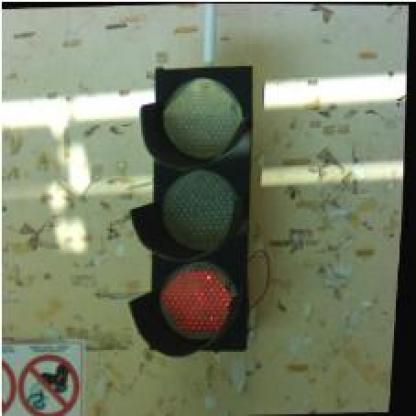red: (126, 63, 266, 358)
